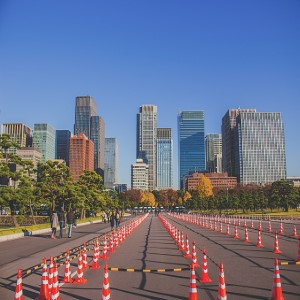traffic cone: (35, 257, 54, 300), (268, 257, 285, 300), (97, 261, 113, 300), (186, 263, 202, 300), (197, 248, 213, 282), (215, 263, 229, 300), (12, 268, 26, 300), (189, 239, 200, 268), (271, 231, 283, 255)
